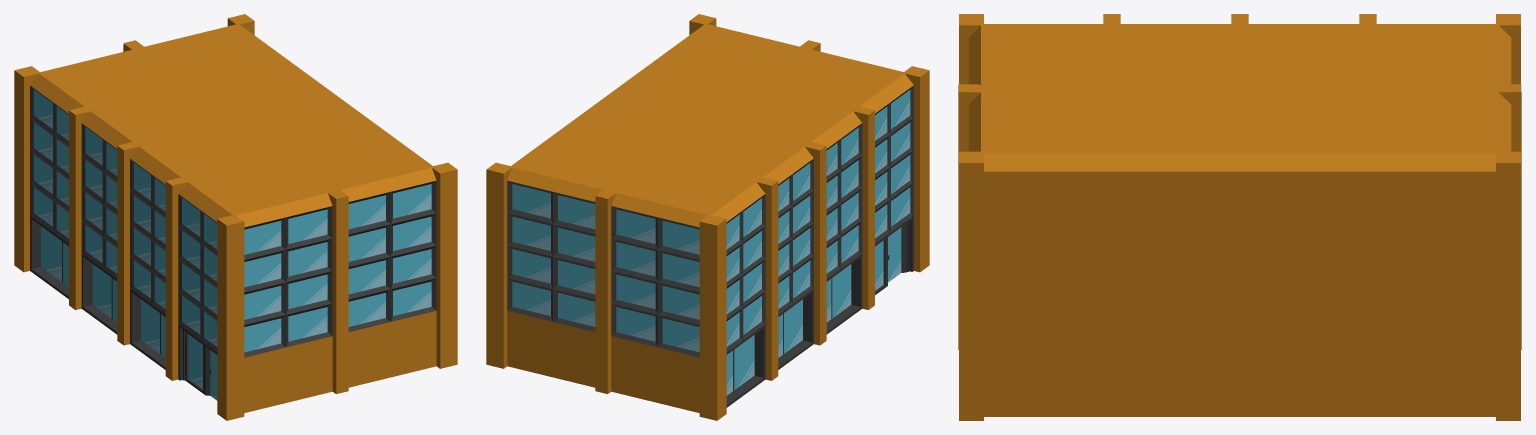
The model's file is Building01WTextures.fbx.
3 renders of one model, left to right at view 1: azimuth 30°, elevation 25°; view 2: azimuth 150°, elevation 25°; view 3: azimuth 270°, elevation 25°, orthographic. The views are drawn at different scales.
Visible parts, largest first — view 1: polySurface10; view 2: polySurface10; view 3: polySurface10.
Part boxes in pixels (x1,y1,x2,y2): polySurface10: (14,14,457,420); polySurface10: (486,14,929,420); polySurface10: (958,14,1521,420).
Size of the model in its own units: 641 by 519 by 1024.
